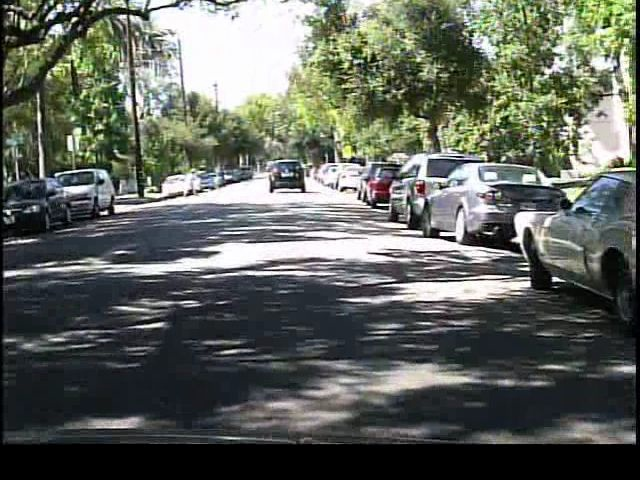person: (183, 164, 201, 202)
